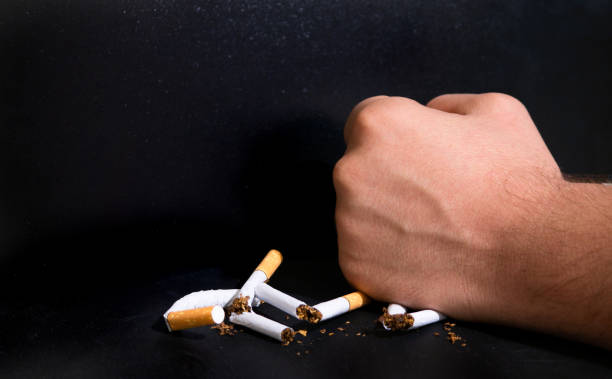cigarette: (162, 288, 267, 333), (223, 248, 284, 315), (227, 312, 296, 346), (253, 282, 309, 320), (305, 290, 366, 324), (393, 308, 444, 333), (382, 303, 406, 331)
